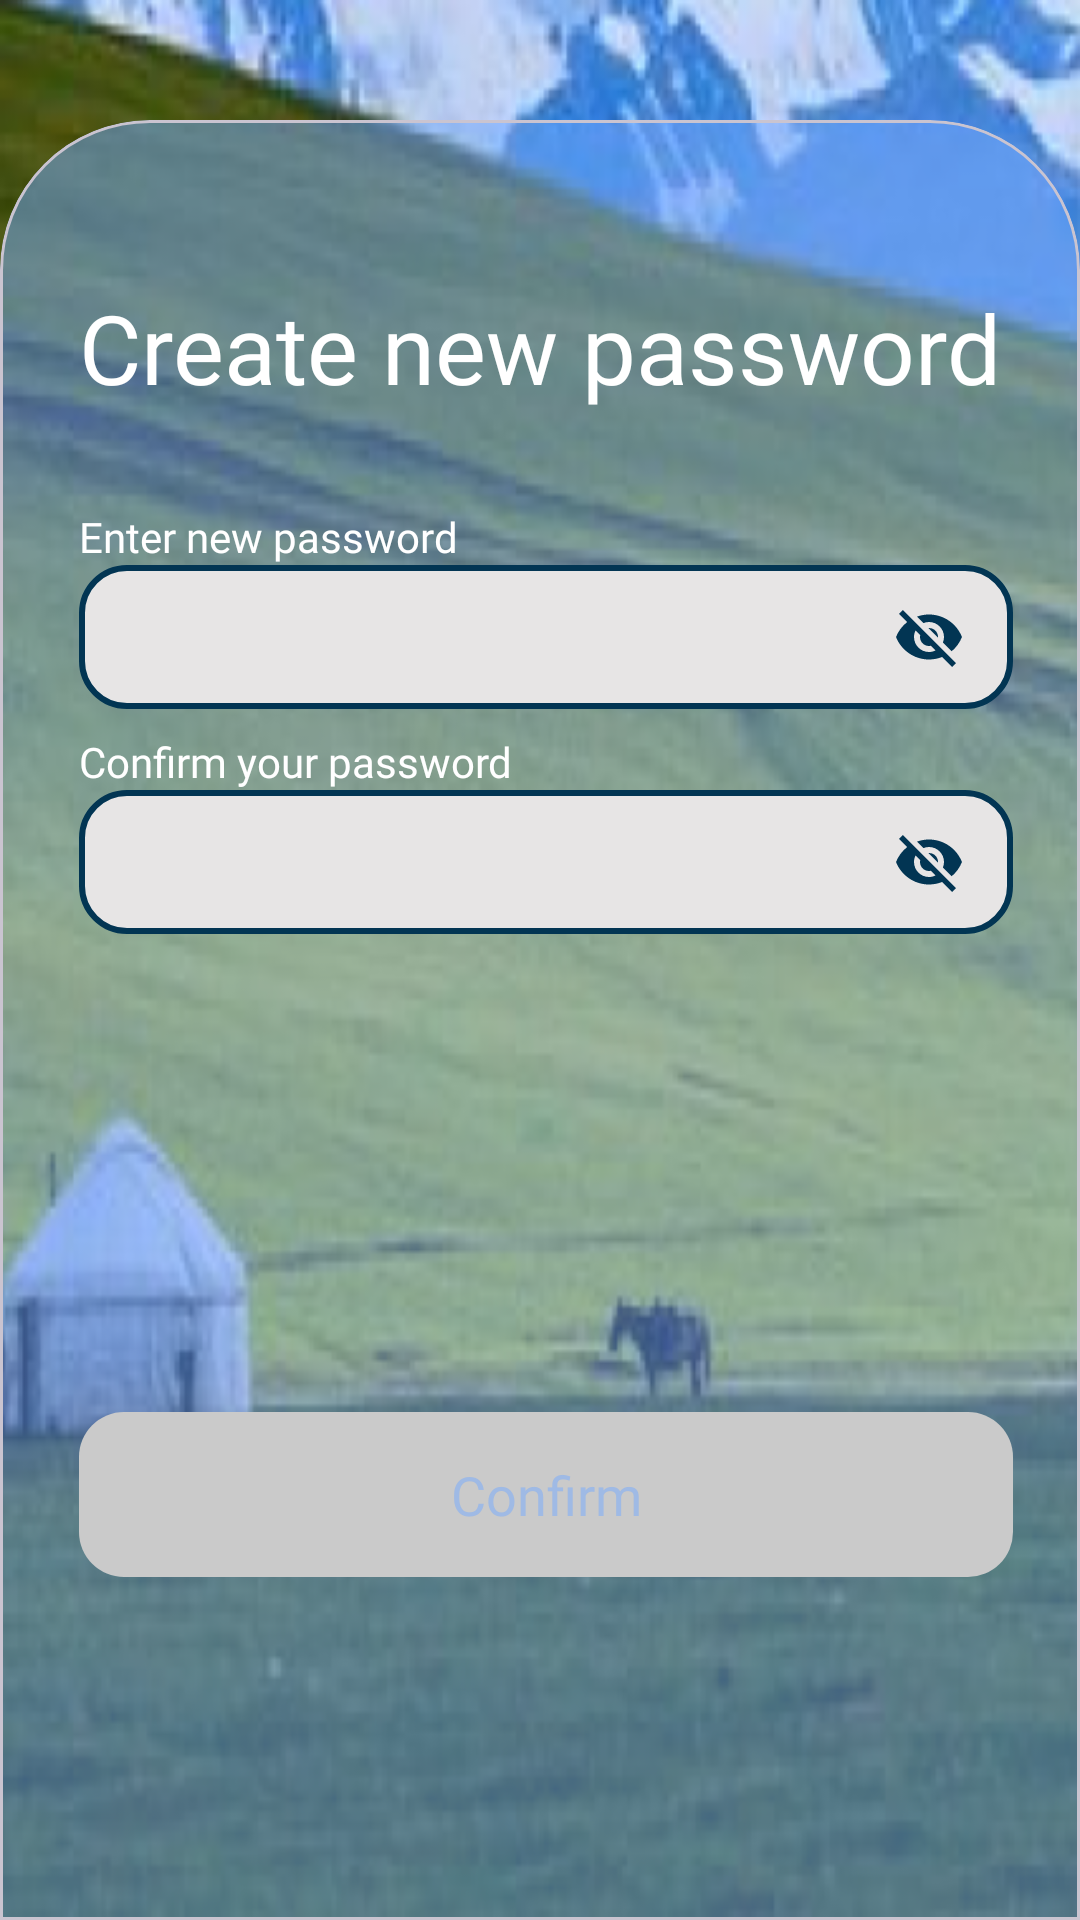

Icon click points for this 1080 x 1920 phone screenshot, format point (x, y):
visibility off: point (929, 638), point (929, 863)
